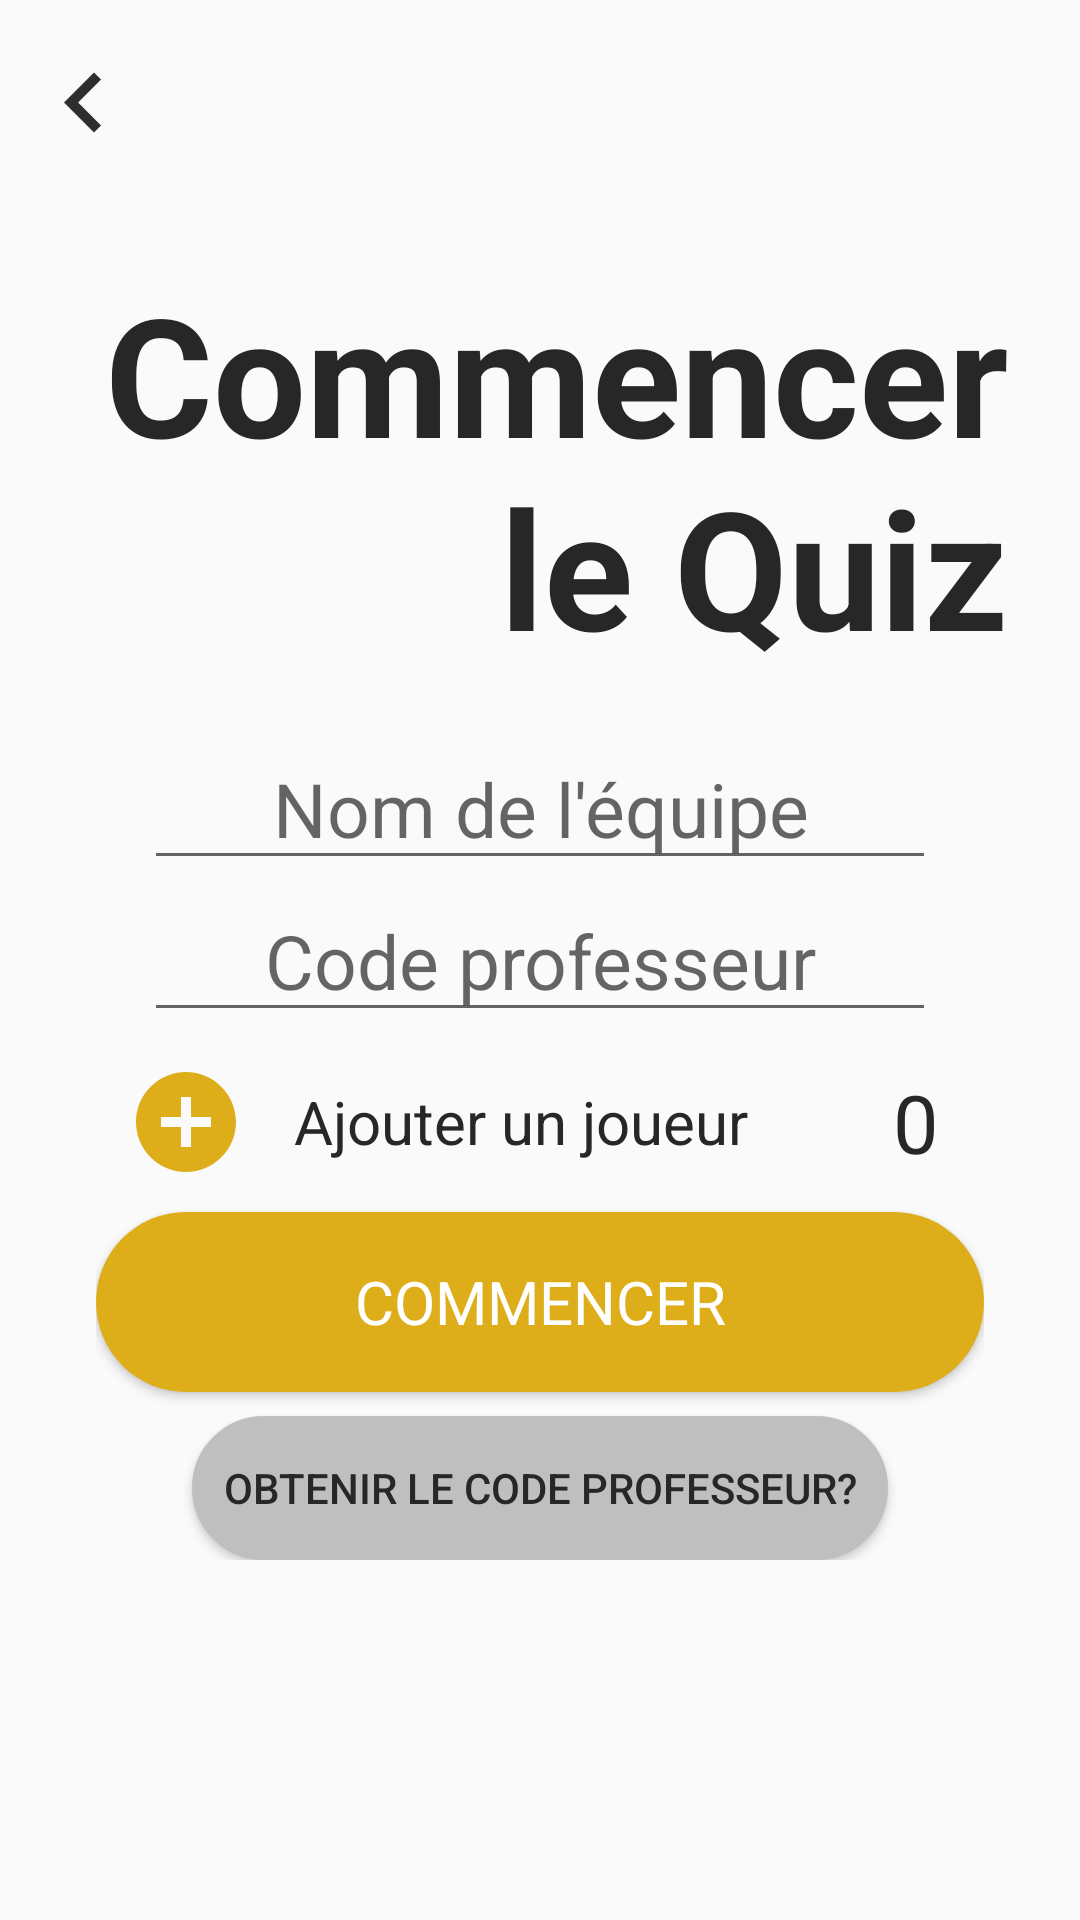

Screen size 1080x1920. Icon name, then its center in pixels as (x=x, y=y):
add: (x=186, y=1122)
